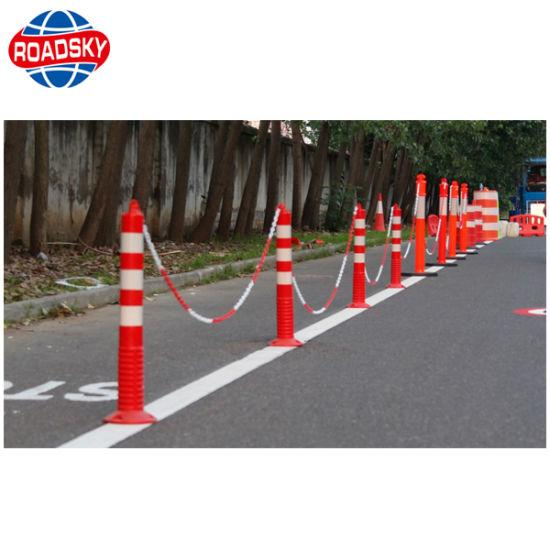traffic cone: (102, 199, 158, 426), (267, 204, 304, 348), (400, 174, 440, 278), (345, 204, 371, 310), (384, 203, 406, 290), (370, 192, 386, 233)
